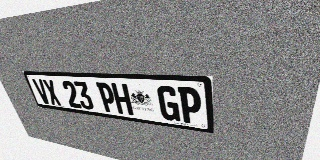2: (61, 80, 82, 108)
3: (73, 81, 95, 110)
G: (156, 85, 180, 122)
H: (111, 83, 134, 115)
P: (178, 87, 202, 125), (96, 82, 118, 113)
V: (32, 79, 52, 104)
X: (42, 79, 62, 106)
